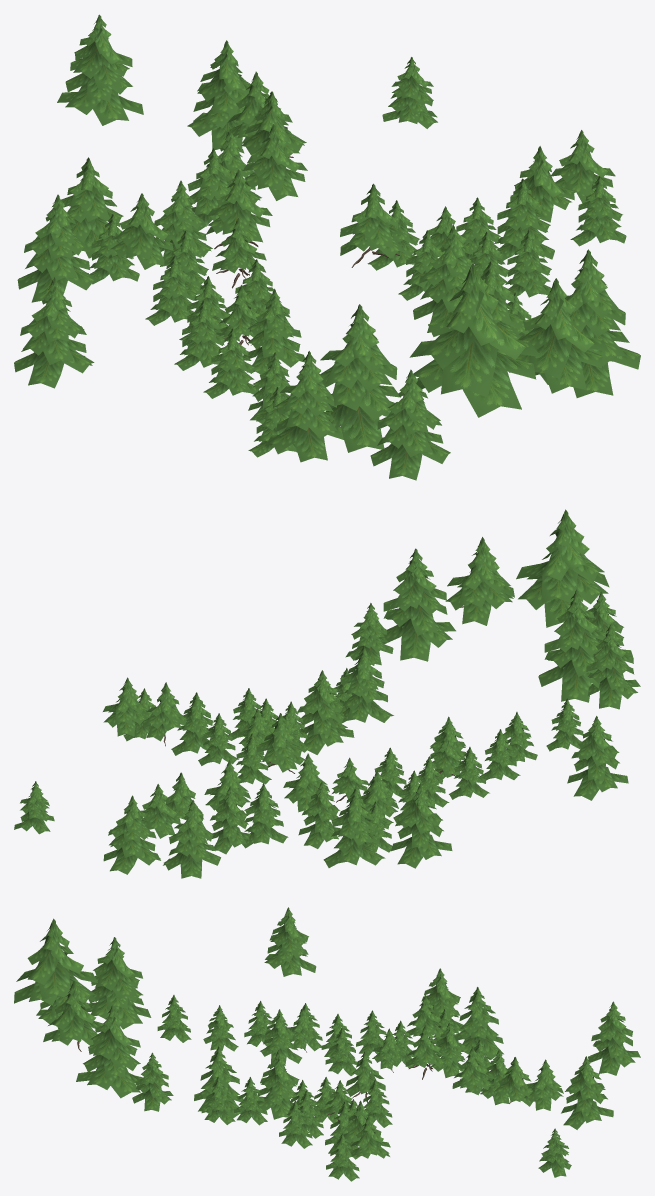
Rendered from songshuye_03.FBX.
3 views of the same model, one above another, from view 1: azimuth 30°, elevation 25°; view 2: azimuth 150°, elevation 25°; view 3: azimuth 270°, elevation 25° (orthographic). The views are drawn at different scales.
Parts seen in each view (by area): view 1: Object012; view 2: Object012; view 3: Object012.
Boxes of the visible parts, box(x1,y1,x2,y2) form: Object012: box(14, 14, 640, 480); Object012: box(14, 509, 640, 878); Object012: box(14, 907, 640, 1181).
Bounding box in the file's own units: 3735 × 1286 × 4934.
